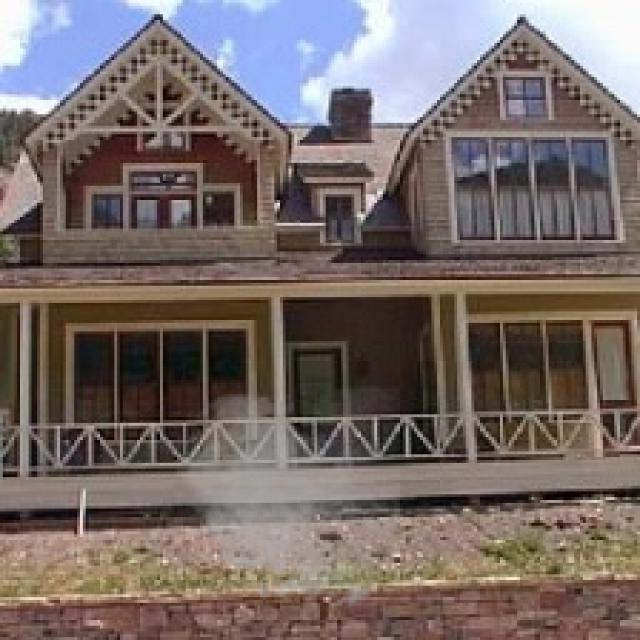Smoke: (168, 386, 400, 614)
